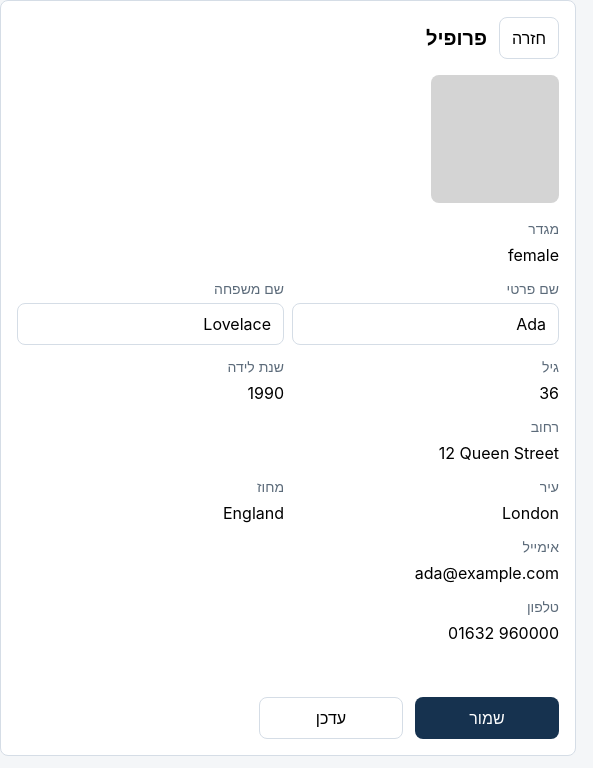
Test: ProfileView save and delete › updates an unsaved profile in memory without a PATCH request
This screenshot has width=593, height=768.
Step 1. Replace the text in the field labelled "שם פרטי" with "Grace" → (426, 324), box [292,303,559,345]
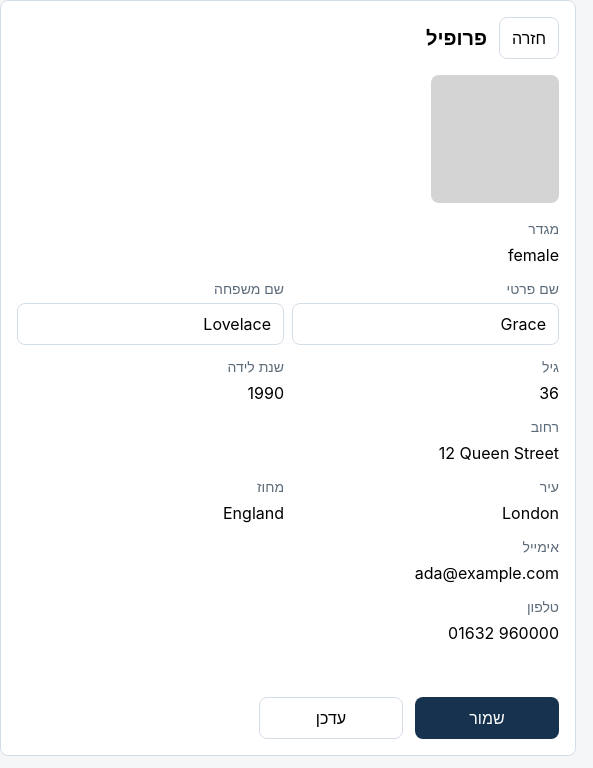
Step 2. Click the button "עדכן" → (331, 718), box [259,697,403,739]
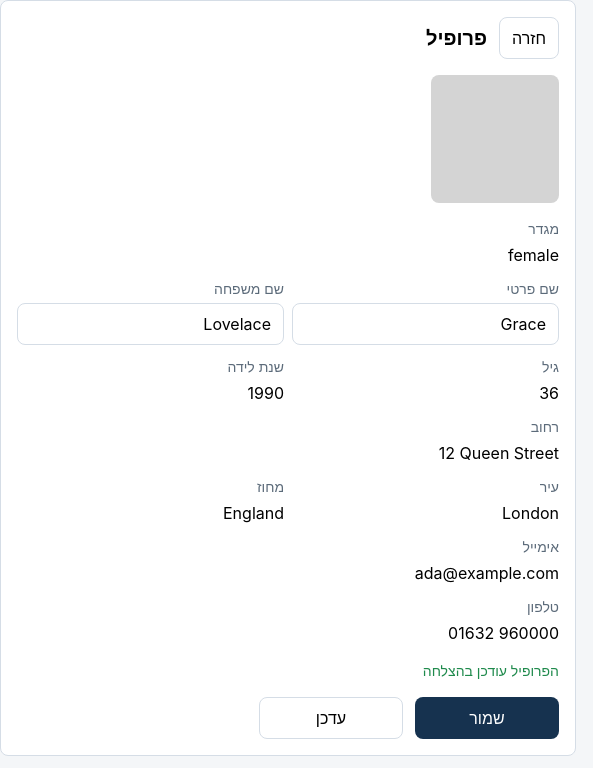
Expected: the element that starts with "חזרה" shows "הפרופיל עודכן בהצלחה", [423,662,559,679]
